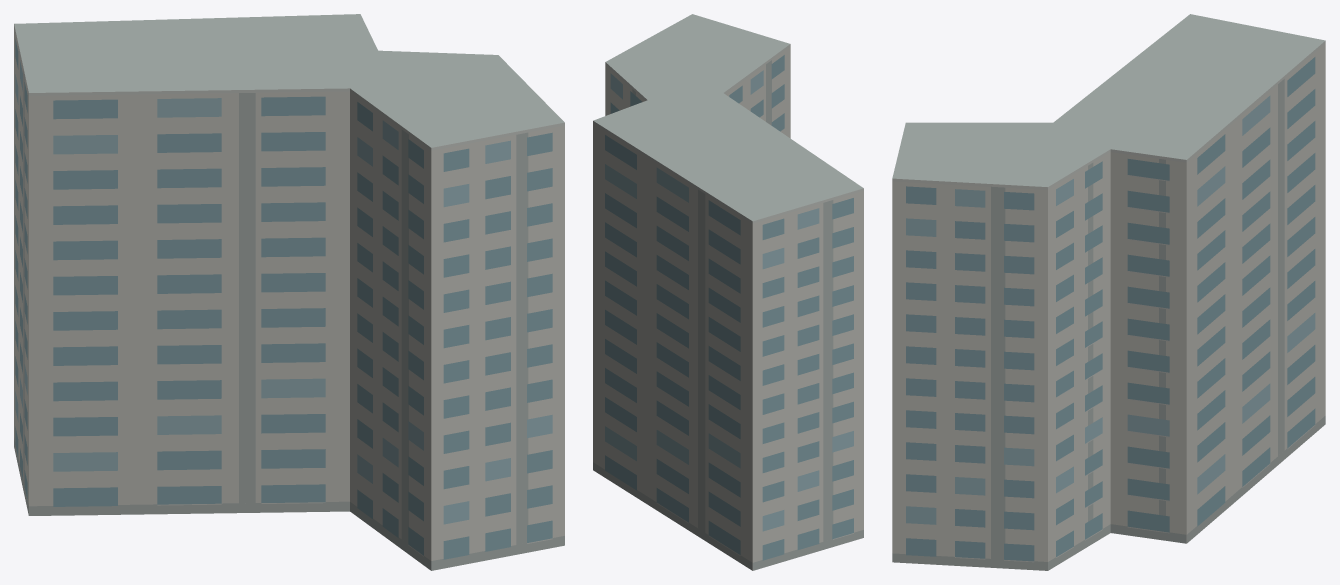
File: residential-8f36c88c-ddbf-4915-88e7-0669331b5ec3.glb
3 views of the same model, side by side, from view 1: azimuth 30°, elevation 25°; view 2: azimuth 150°, elevation 25°; view 3: azimuth 270°, elevation 25° (orthographic). The views are drawn at different scales.
Visible parts, largest first — view 1: residential-8f36c88c-ddbf-4915-88e7-0669331b5ec3.tmp; view 2: residential-8f36c88c-ddbf-4915-88e7-0669331b5ec3.tmp; view 3: residential-8f36c88c-ddbf-4915-88e7-0669331b5ec3.tmp.
Boxes of the visible parts, left/top/right/bottom form: residential-8f36c88c-ddbf-4915-88e7-0669331b5ec3.tmp: left=14, top=14, right=564, bottom=570; residential-8f36c88c-ddbf-4915-88e7-0669331b5ec3.tmp: left=593, top=14, right=863, bottom=570; residential-8f36c88c-ddbf-4915-88e7-0669331b5ec3.tmp: left=892, top=14, right=1325, bottom=570.
Bounding box in the file's own units: 32.91 × 34 × 34.81.
